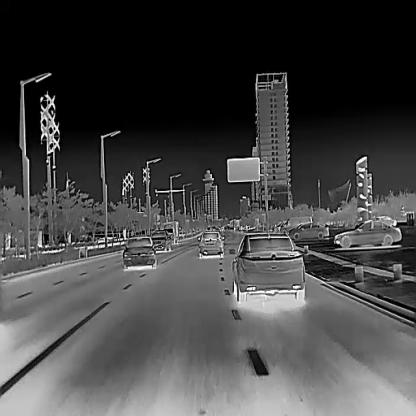car: (232, 232, 304, 300), (333, 219, 400, 247), (122, 236, 157, 270), (197, 229, 225, 257), (288, 222, 329, 239), (148, 229, 172, 251), (280, 216, 312, 232), (376, 215, 396, 225)
truck: (163, 220, 179, 244)
